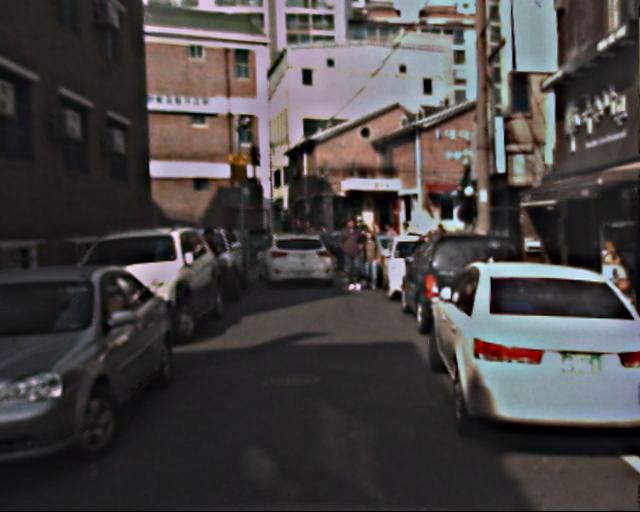person: (337, 220, 367, 292), (359, 230, 384, 291)
